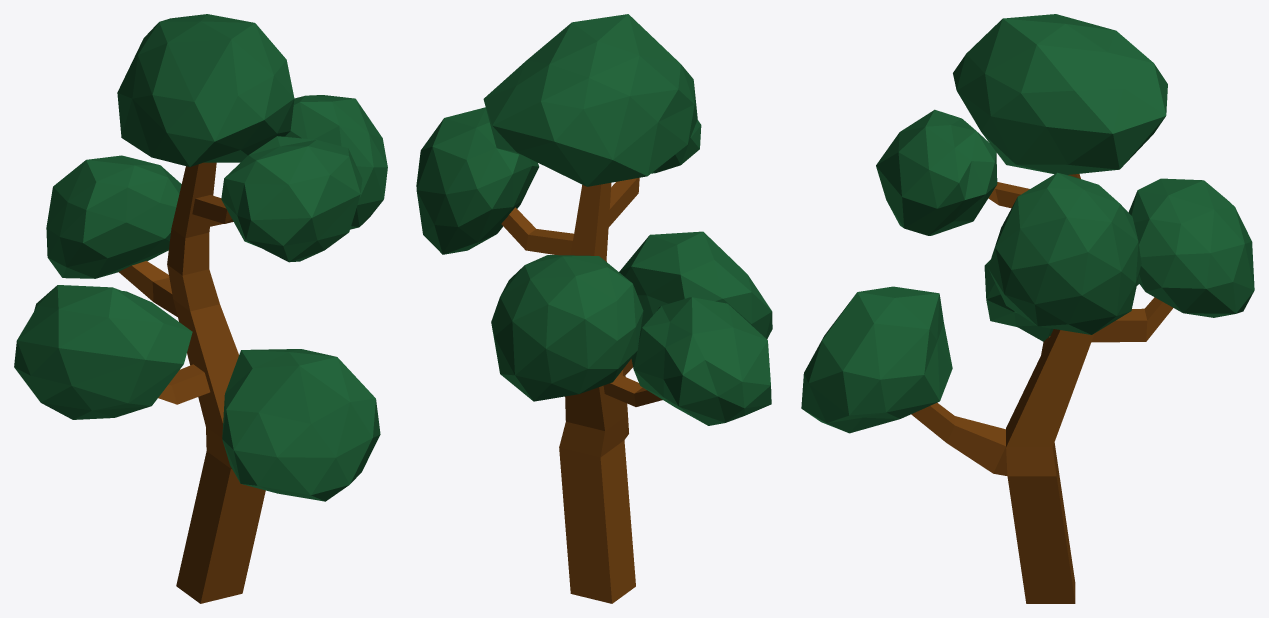
File: tree_sapling.glb
3 views of the same model, side by side, from view 1: azimuth 30°, elevation 25°; view 2: azimuth 150°, elevation 25°; view 3: azimuth 270°, elevation 25° (orthographic). The views are drawn at different scales.
Parts seen in each view (by area): view 1: Trunk, Icosphere.005, Icosphere.002, Icosphere.007, Icosphere.003, Icosphere.001, Icosphere.006; view 2: Icosphere.005, Trunk, Icosphere.001, Icosphere.007, Icosphere.006, Icosphere.002, Icosphere.003; view 3: Icosphere.005, Trunk, Icosphere.006, Icosphere.002, Icosphere.001, Icosphere.003, Icosphere.007.
Boxes of the visible parts, left/top/right/bottom form: Trunk: left=119, top=162, right=265, bottom=603; Icosphere.005: left=117, top=14, right=294, bottom=166; Icosphere.002: left=222, top=349, right=380, bottom=501; Icosphere.007: left=14, top=285, right=192, bottom=419; Icosphere.003: left=221, top=136, right=362, bottom=262; Icosphere.001: left=46, top=155, right=181, bottom=278; Icosphere.006: left=285, top=95, right=387, bottom=229; Icosphere.005: left=483, top=14, right=697, bottom=186; Trunk: left=501, top=177, right=662, bottom=603; Icosphere.001: left=491, top=255, right=643, bottom=401; Icosphere.007: left=631, top=297, right=771, bottom=425; Icosphere.006: left=416, top=107, right=539, bottom=254; Icosphere.002: left=619, top=231, right=772, bottom=339; Icosphere.003: left=651, top=120, right=701, bottom=173; Icosphere.005: left=953, top=14, right=1167, bottom=174; Trunk: left=911, top=174, right=1172, bottom=603; Icosphere.006: left=988, top=172, right=1141, bottom=334; Icosphere.002: left=801, top=286, right=952, bottom=433; Icosphere.001: left=1128, top=178, right=1254, bottom=317; Icosphere.003: left=876, top=109, right=997, bottom=235; Icosphere.007: left=984, top=259, right=1138, bottom=341.
Size of the model in its own units: 1.31 by 2.04 by 1.46.
